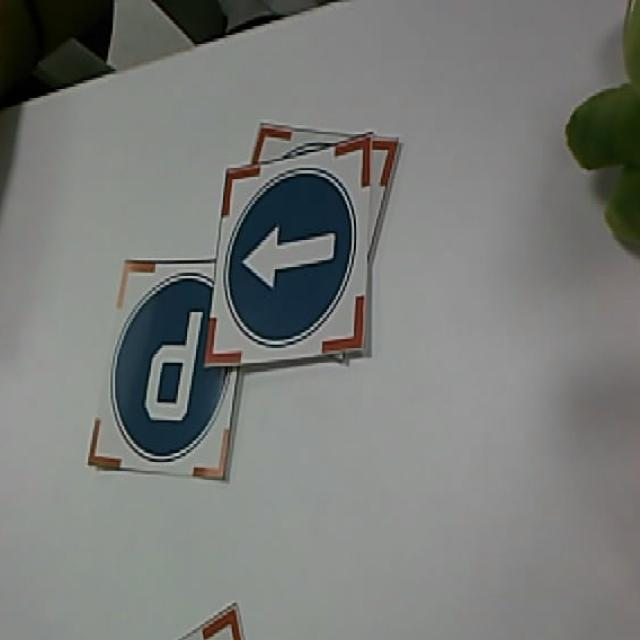parking: (88, 255, 247, 481)
straight: (201, 134, 371, 360)
